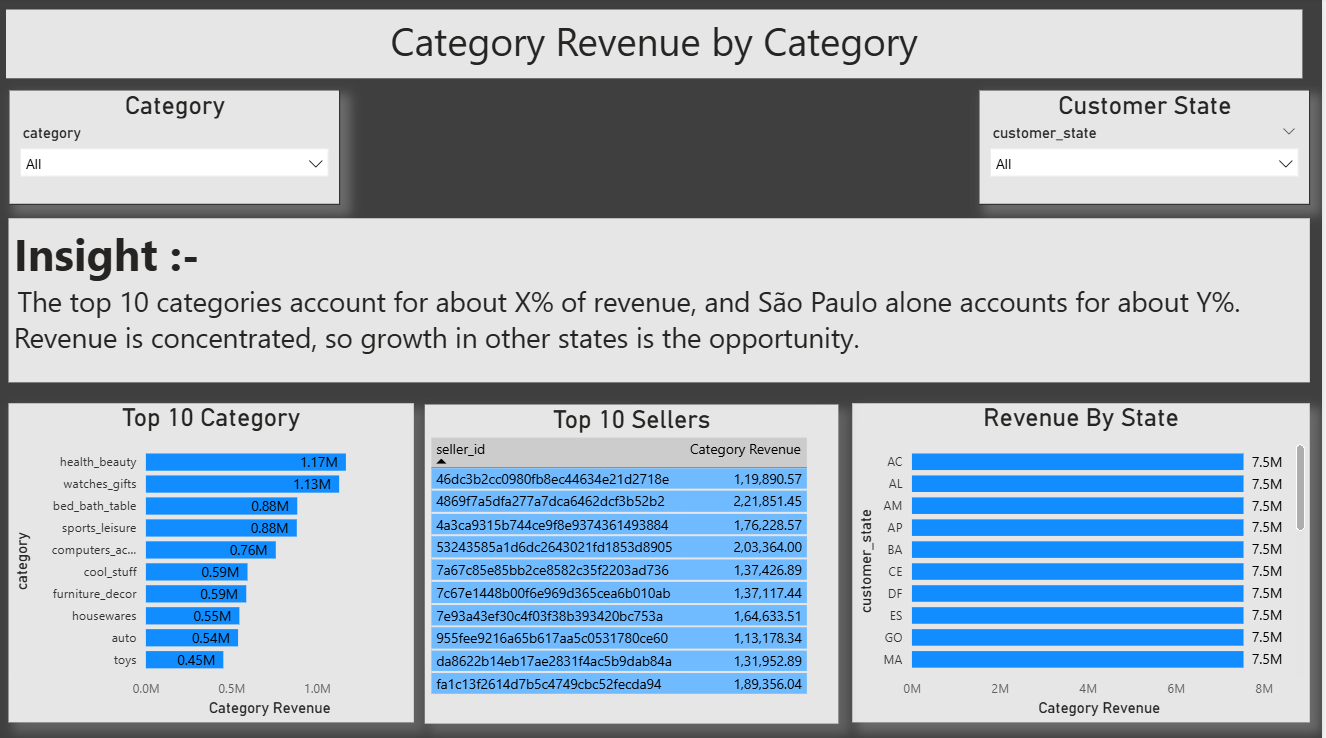

What the dashboard file says about the page in this screenshot:
{"tool":"powerbi","page":{"name":"Products & Sales","canvas":[1280,720],"ordinal":1},"visuals":[{"type":"clusteredBarChart","title":"Top 10 Category","fields":{"Category":["items_clean.category"],"Y":["items_clean.Category Revenue"]},"box":[12.1,392.1,390.9,307.6],"z":0},{"type":"clusteredBarChart","title":"Revenue By State","fields":{"Y":["items_clean.Category Revenue"],"Category":["orders_clean.customer_state"]},"box":[826.4,392.1,441.6,307.6],"z":1000},{"type":"tableEx","title":"Top 10 Sellers","fields":{"Values":["items_clean.seller_id","items_clean.Category Revenue"]},"box":[413.8,393.3,399.3,307.6],"z":2000},{"type":"slicer","title":"Category","fields":{"Values":["items_clean.category"]},"box":[12.1,89.3,319.7,111],"z":4000},{"type":"slicer","title":"  Customer State","fields":{"Values":["orders_clean.customer_state"]},"box":[948.3,89.3,319.7,111],"z":5000},{"type":"textbox","box":[12.1,213.5,1255.9,158],"z":6000},{"type":"textbox","box":[9.7,12.1,1251.1,66.4],"z":7000}]}

Visuals, with their boxes in screenshot pixels (x1, y1, x2, y2), scaled from the page's 1280x720 canvas onto the 1326x738 screenshot:
"Top 10 Category" clusteredBarChart: (left=13, top=402, right=417, bottom=717)
"Revenue By State" clusteredBarChart: (left=856, top=402, right=1314, bottom=717)
"Top 10 Sellers" tableEx: (left=429, top=403, right=842, bottom=718)
"Category" slicer: (left=13, top=92, right=344, bottom=205)
"  Customer State" slicer: (left=982, top=92, right=1314, bottom=205)
textbox: (left=13, top=219, right=1314, bottom=381)
textbox: (left=10, top=12, right=1306, bottom=80)
